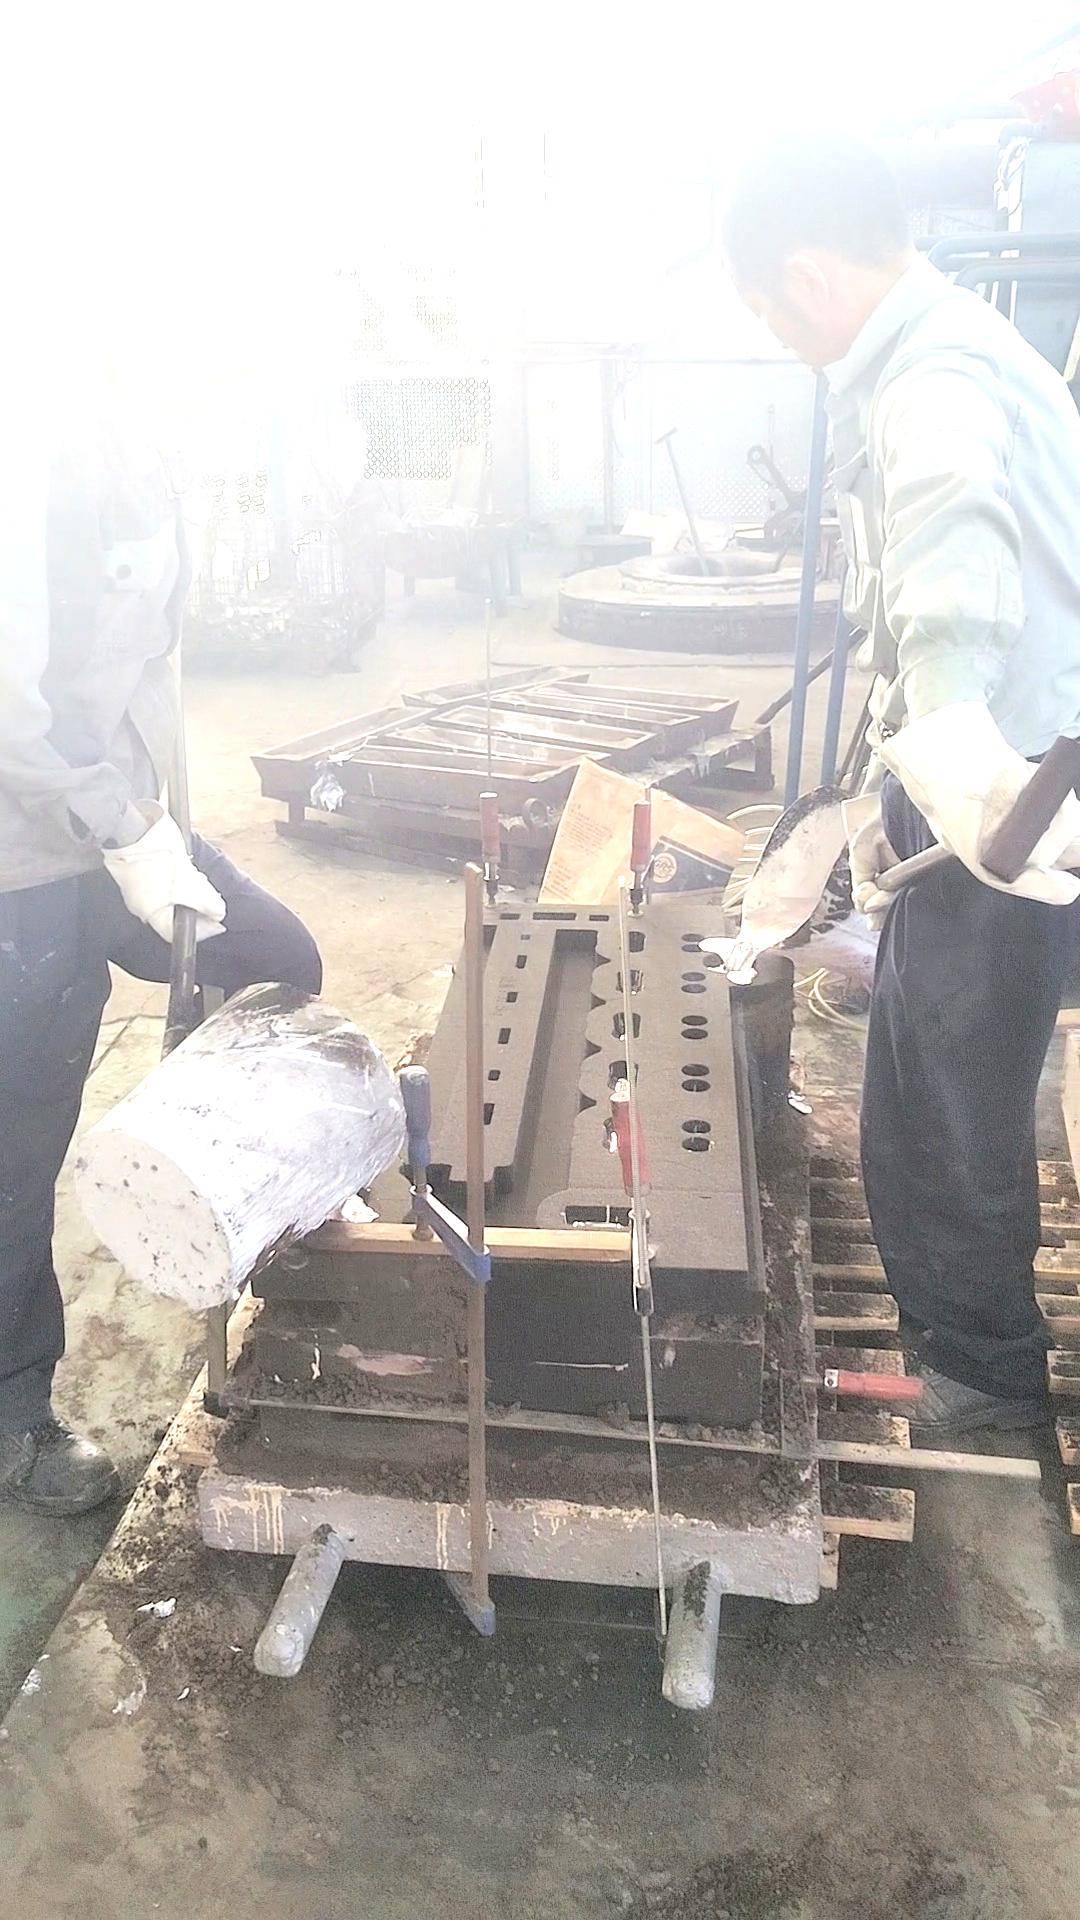pouring hole: (310, 1185, 375, 1225), (703, 949, 756, 972)
